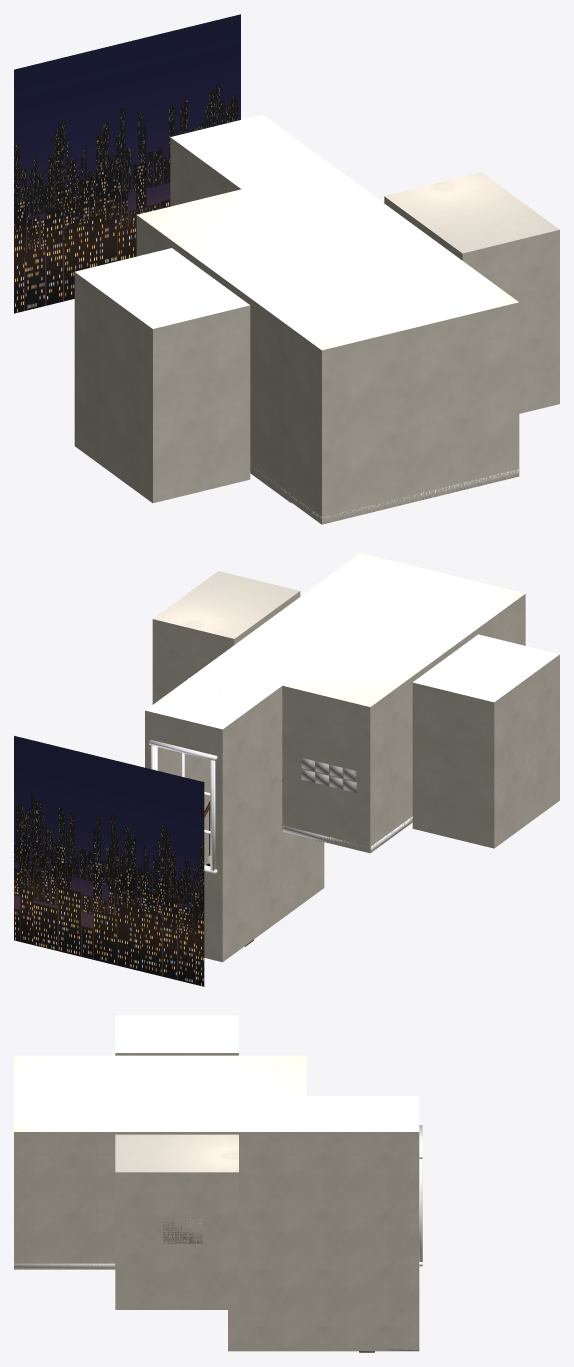
The model's file is apartment_hall.glb.
The picture shows the model from 3 angles, top to bottom: view 1: azimuth 30°, elevation 25°; view 2: azimuth 150°, elevation 25°; view 3: azimuth 270°, elevation 25°; orthographic projection. The views are drawn at different scales.
Parts seen in each view (by area): view 1: win_stair_view, ceiling_a, wall_front_0, entryA_s_0, entryA_far_0, wall_left_0, entryB_s_0, entryA_ceiling, entryB_ceiling, ceiling_b, wall_shaft_inner_0, wall_left_2; view 2: win_stair_view, ceiling_a, wall_shaft_inner_0, entryA_n_0, wall_back_0, entryA_far_0, wall_left_2, entryB_ceiling, entryA_ceiling, ceiling_b, entryB_n_0, wall_shaft_inner_low_0 (+6 smaller); view 3: wall_shaft_right_0, ceiling_a, entryB_far_0, wall_right_0, entryB_ceiling, entryA_ceiling, ceiling_b, skirt_r, entryB_art_frame.
Boxes of the visible parts, x1,y1,x2,y2 form: win_stair_view: (14, 14, 240, 313); ceiling_a: (137, 167, 518, 350); wall_front_0: (322, 302, 519, 524); entryA_s_0: (153, 305, 250, 503); entryA_far_0: (74, 272, 152, 502); wall_left_0: (235, 287, 321, 524); entryB_s_0: (462, 230, 559, 413); entryA_ceiling: (75, 248, 249, 328); entryB_ceiling: (384, 172, 559, 253); ceiling_b: (170, 114, 333, 189); wall_shaft_inner_0: (170, 137, 240, 206); wall_left_2: (136, 215, 201, 269); win_stair_view: (14, 736, 204, 986); ceiling_a: (205, 553, 525, 706); wall_shaft_inner_0: (222, 686, 282, 961); entryA_n_0: (412, 682, 494, 848); wall_back_0: (282, 685, 370, 853); entryA_far_0: (494, 654, 559, 848); wall_left_2: (370, 667, 425, 852); entryB_ceiling: (153, 571, 299, 638); entryA_ceiling: (413, 634, 559, 702); ceiling_b: (145, 667, 281, 729); entryB_n_0: (152, 619, 234, 704); wall_shaft_inner_low_0: (282, 832, 324, 918); wall_shaft_right_0: (228, 1132, 419, 1351); ceiling_a: (14, 1055, 306, 1131); entryB_far_0: (115, 1172, 238, 1309); wall_right_0: (14, 1132, 151, 1269); entryB_ceiling: (115, 1134, 238, 1172); entryA_ceiling: (115, 1015, 238, 1052); ceiling_b: (306, 1096, 419, 1131); skirt_r: (14, 1263, 115, 1269); entryB_art_frame: (163, 1218, 202, 1243).
Size of the model in its own units: 6.6 by 4.62 by 9.7.
Materials: 27 (13 with a texture image).
